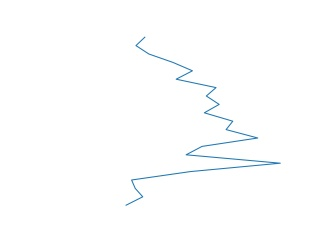floodSwamp: (121, 35, 284, 208)
